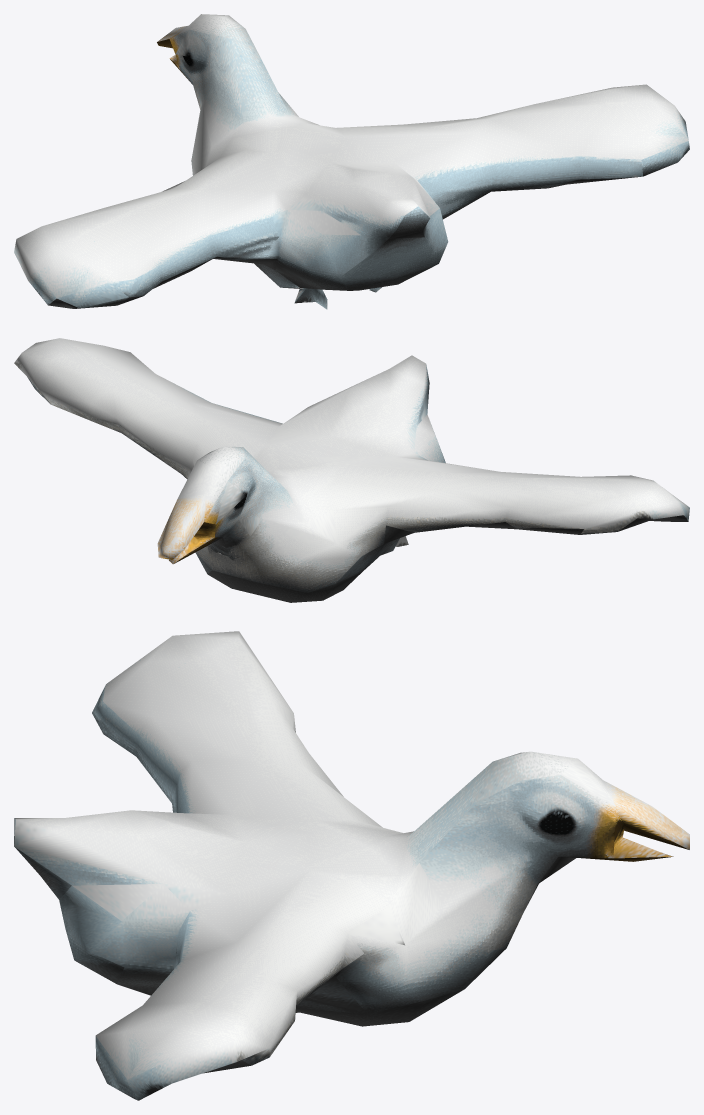
File: duck.glb
3 views of the same model, one above another, from view 1: azimuth 30°, elevation 25°; view 2: azimuth 150°, elevation 25°; view 3: azimuth 270°, elevation 25° (orthographic). The views are drawn at different scales.
Parts seen in each view (by area): view 1: duck_low.001; view 2: duck_low.001; view 3: duck_low.001.
Boxes of the visible parts, left/top/right/bottom form: duck_low.001: left=14, top=14, right=689, bottom=309; duck_low.001: left=14, top=338, right=689, bottom=602; duck_low.001: left=14, top=631, right=689, bottom=1100.
Bounding box in the file's own units: 8.18 × 2.29 × 5.42.
1 material, 1 textured.
